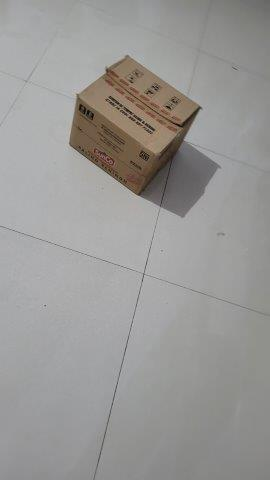kardus: (70, 54, 200, 198)
